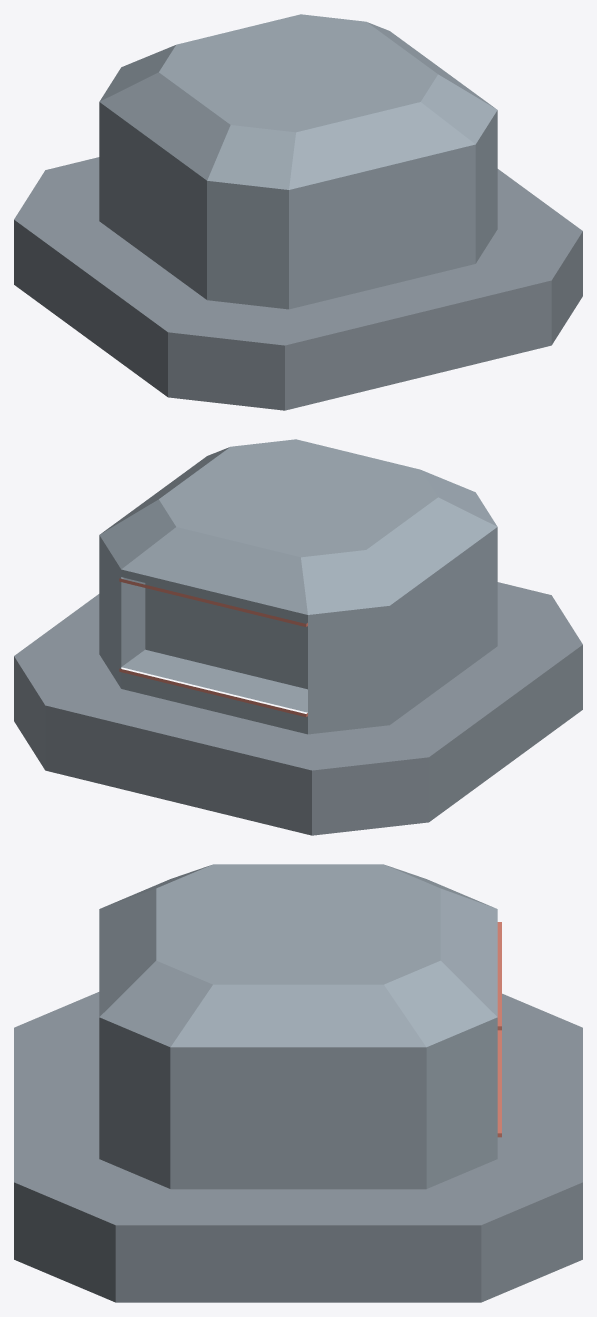
File: Turret_Side_Body.glb
The picture shows the model from 3 angles, top to bottom: view 1: azimuth 30°, elevation 25°; view 2: azimuth 150°, elevation 25°; view 3: azimuth 270°, elevation 25°; orthographic projection. The views are drawn at different scales.
Visible parts, largest first — view 1: Turret_Side_Body; view 2: Turret_Side_Body; view 3: Turret_Side_Body.
Part boxes in pixels (x1,y1,x2,y2): Turret_Side_Body: [14, 14, 582, 410]; Turret_Side_Body: [14, 439, 582, 835]; Turret_Side_Body: [14, 864, 582, 1302].
Size of the model in its own units: 0.4 by 0.2 by 0.4.
